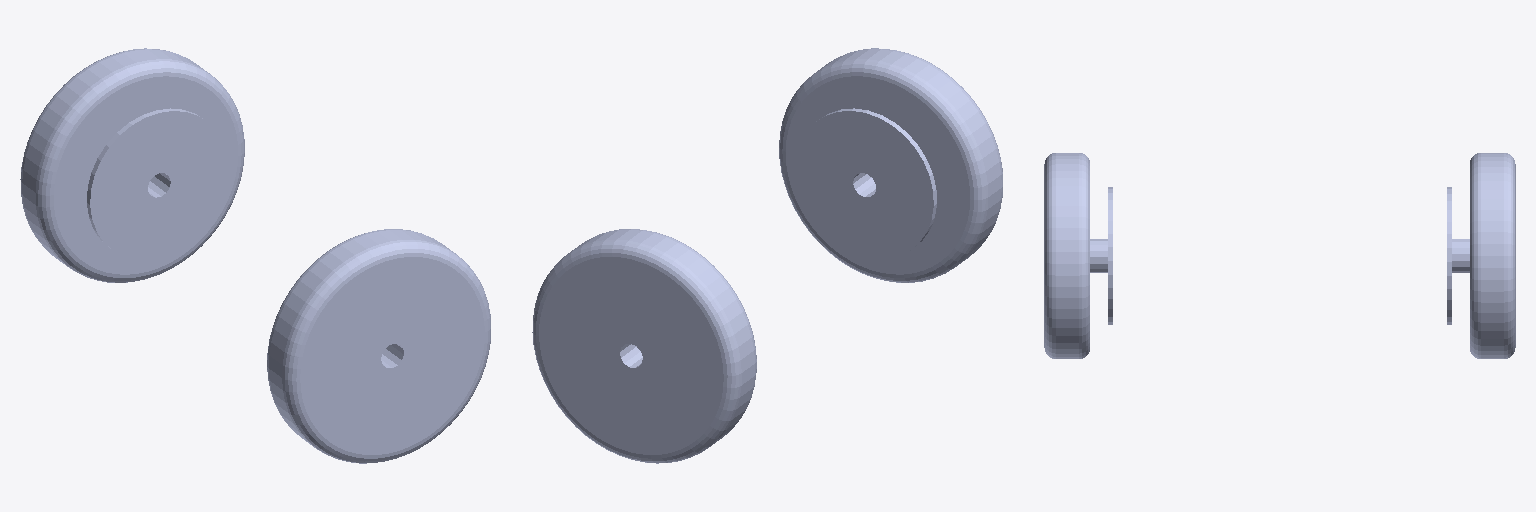
robot.urdf — Tao_urdf:
<robot
  name="Tao_urdf">
  <link
    name="base_link">
    <inertial>
      <origin
        xyz="-0.0304628441230635 -0.00806976210111035 0.0677603156177464"
        rpy="0 0 0" />
      <mass
        value="5.31447510419258" />
      <inertia
        ixx="0.037510282035635"
        ixy="0.00360898691377388"
        ixz="-0.000354641136394467"
        iyy="0.068379527279539"
        iyz="-0.000689529575521288"
        izz="0.0678647343908406" />
    </inertial>
    <visual>
      <origin
        xyz="0 0 0"
        rpy="0 0 0" />
      <geometry>
        <mesh
          filename="package://Tao_urdf/meshes/base_link.STL" />
      </geometry>
      <material
        name="">
        <color
          rgba="0.792156862745098 0.819607843137255 0.933333333333333 1" />
      </material>
    </visual>
    <collision>
      <origin
        xyz="0 0 0"
        rpy="0 0 0" />
      <geometry>
        <mesh
          filename="package://Tao_urdf/meshes/base_link.STL" />
      </geometry>
    </collision>
  </link>
  <link
    name="right_link">
    <inertial>
      <origin
        xyz="3.3931E-15 -1.0478E-15 0.037867"
        rpy="0 0 0" />
      <mass
        value="1.0425" />
      <inertia
        ixx="0"
        ixy="0"
        ixz="0"
        iyy="0"
        iyz="0"
        izz="0" />
    </inertial>
    <visual>
      <origin
        xyz="0 0 0"
        rpy="0 0 0" />
      <geometry>
        <mesh
          filename="package://Tao_urdf/meshes/right_link.STL" />
      </geometry>
      <material
        name="">
        <color
          rgba="0.79216 0.81961 0.93333 1" />
      </material>
    </visual>
    <collision>
      <origin
        xyz="0 0 0"
        rpy="0 0 0" />
      <geometry>
        <mesh
          filename="package://Tao_urdf/meshes/right_link.STL" />
      </geometry>
    </collision>
  </link>
  <joint
    name="right_joint"
    type="revolute">
    <origin
      xyz="0 -0.145 0.028"
      rpy="1.5708 1.2246E-16 -7.3956E-32" />
    <parent
      link="base_link" />
    <child
      link="right_link" />
    <axis
      xyz="0 0 1" />
    <limit
      effort="0"
      velocity="0" />
  </joint>
  <link
    name="left_link">
    <inertial>
      <origin
        xyz="-3.008E-15 -7.9103E-16 0.037867"
        rpy="0 0 0" />
      <mass
        value="1.0425" />
      <inertia
        ixx="0"
        ixy="0"
        ixz="0"
        iyy="0"
        iyz="0"
        izz="0" />
    </inertial>
    <visual>
      <origin
        xyz="0 0 0"
        rpy="0 0 0" />
      <geometry>
        <mesh
          filename="package://Tao_urdf/meshes/left_link.STL" />
      </geometry>
      <material
        name="">
        <color
          rgba="0.79216 0.81961 0.93333 1" />
      </material>
    </visual>
    <collision>
      <origin
        xyz="0 0 0"
        rpy="0 0 0" />
      <geometry>
        <mesh
          filename="package://Tao_urdf/meshes/left_link.STL" />
      </geometry>
    </collision>
  </link>
  <joint
    name="left_joint"
    type="revolute">
    <origin
      xyz="0 0.145 0.028"
      rpy="1.5708 -1.2246E-16 3.1416" />
    <parent
      link="base_link" />
    <child
      link="left_link" />
    <axis
      xyz="0 0 -1" />
    <limit
      effort="0"
      velocity="0" />
  </joint>
  <link
    name="laser_link">
    <inertial>
      <origin
        xyz="0.012167 -0.00037596 -0.028765"
        rpy="0 0 0" />
      <mass
        value="0.073084" />
      <inertia
        ixx="1.2137E-05"
        ixy="-7.1173E-07"
        ixz="6.9567E-06"
        iyy="3.7392E-05"
        iyz="4.3085E-07"
        izz="3.0595E-05" />
    </inertial>
    <visual>
      <origin
        xyz="0 0 0"
        rpy="0 0 0" />
      <geometry>
        <mesh
          filename="package://Tao_urdf/meshes/laser_link.STL" />
      </geometry>
      <material
        name="">
        <color
          rgba="0.79216 0.81961 0.93333 1" />
      </material>
    </visual>
    <collision>
      <origin
        xyz="0 0 0"
        rpy="0 0 0" />
      <geometry>
        <mesh
          filename="package://Tao_urdf/meshes/laser_link.STL" />
      </geometry>
    </collision>
  </link>
  <joint
    name="laser_joint"
    type="fixed">
    <origin
      xyz="0.16319 0.0013567 0.1855"
      rpy="-5.4448E-33 -4.8363E-35 -2.6055E-17" />
    <parent
      link="base_link" />
    <child
      link="laser_link" />
    <axis
      xyz="0 0 1" />
  </joint>
</robot>

--- Facts derived from the render (not from the file) ---
The picture shows the robot from 3 angles, left to right: view 1: azimuth 30°, elevation 25°; view 2: azimuth 150°, elevation 25°; view 3: azimuth 270°, elevation 25°; orthographic projection.
Model Tao_urdf with 4 links and 3 joints (2 revolute, 1 fixed), rooted at base_link, posed all joints at 0.
Visible links, largest first — view 1: right_link, left_link; view 2: right_link, left_link; view 3: right_link, left_link.
Link boxes in pixels (x1,y1,x2,y2): right_link: (267,229,490,463); left_link: (20,48,244,282); right_link: (779,48,1002,282); left_link: (532,229,756,463); right_link: (1044,153,1112,358); left_link: (1447,153,1515,358).
Size in the robot's own frame: 0.18 by 0.41 by 0.1799 metres.
Meshes: 4 distinct files referenced, 2 mesh visuals loaded (2 binary STL); not drawn: 2 (reference not matched to a file when rendering).
